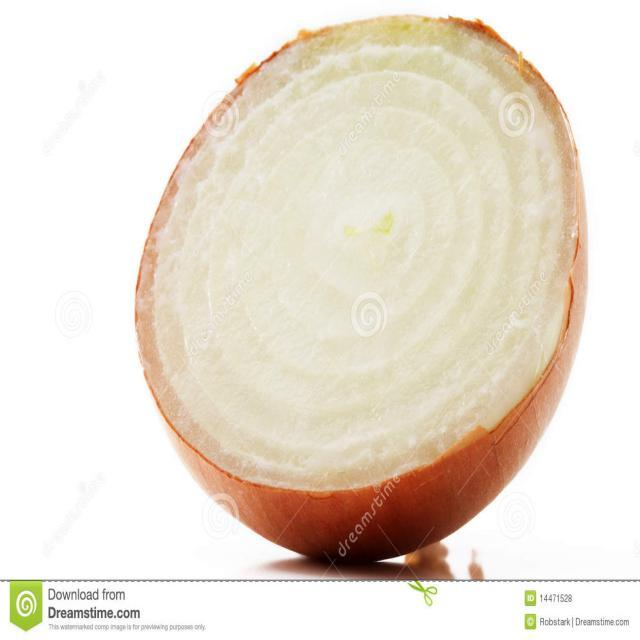onion: (129, 9, 591, 569)
